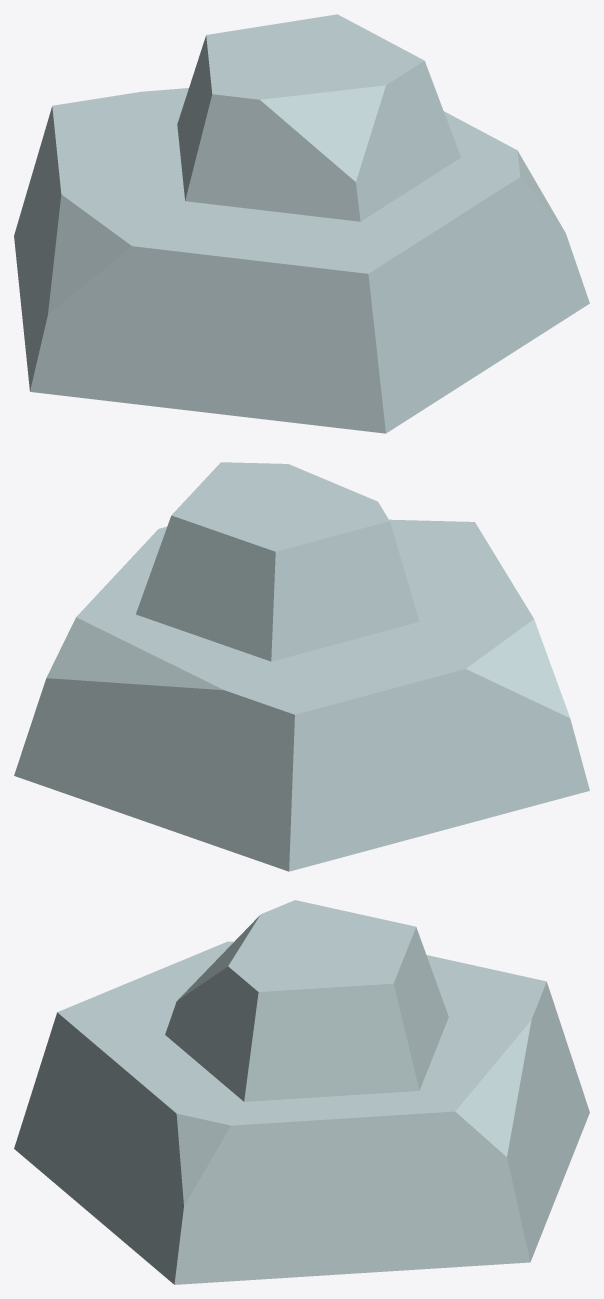
Rendered from stone_smallTopA.glb.
3 views of the same model, one above another, from view 1: azimuth 30°, elevation 25°; view 2: azimuth 150°, elevation 25°; view 3: azimuth 270°, elevation 25° (orthographic). The views are drawn at different scales.
Parts seen in each view (by area): view 1: stone_smallTopA; view 2: stone_smallTopA; view 3: stone_smallTopA.
Part boxes in pixels (bbox=[...]): stone_smallTopA: bbox=[14, 14, 589, 433]; stone_smallTopA: bbox=[14, 462, 589, 871]; stone_smallTopA: bbox=[14, 900, 589, 1284].
Bounding box in the file's own units: 0.4877 × 0.22 × 0.4891.
